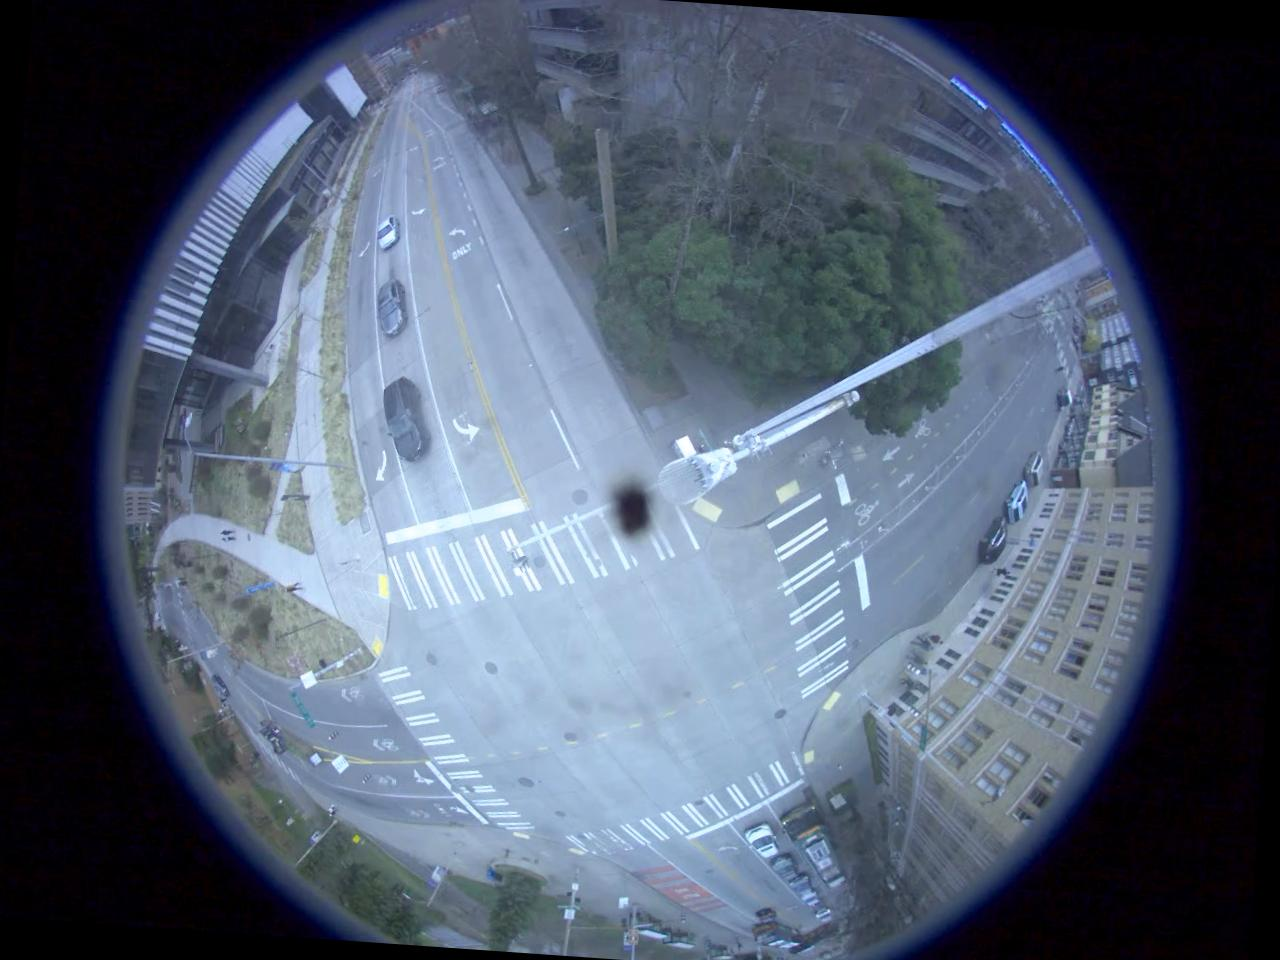bus: (779, 802, 850, 888), (790, 922, 836, 956), (750, 922, 799, 948)
car: (378, 376, 426, 460), (372, 280, 408, 338), (978, 512, 1008, 569), (742, 823, 782, 858), (373, 212, 402, 258), (1004, 476, 1031, 525), (1024, 450, 1050, 488), (771, 852, 799, 884), (752, 904, 781, 924), (792, 870, 812, 895), (798, 890, 822, 910)
person: (900, 648, 930, 668), (896, 673, 922, 693), (909, 634, 934, 652), (281, 578, 304, 594), (988, 566, 1012, 578), (926, 632, 946, 646), (218, 535, 237, 546), (217, 528, 236, 538)
